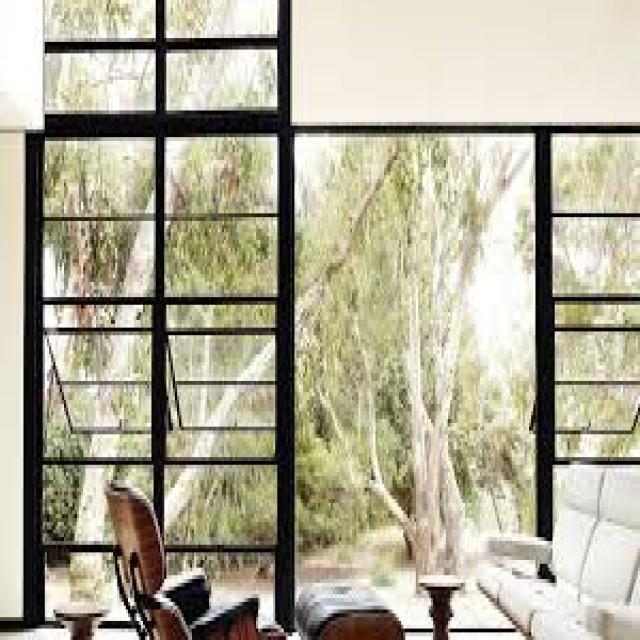chair: (72, 460, 228, 640)
